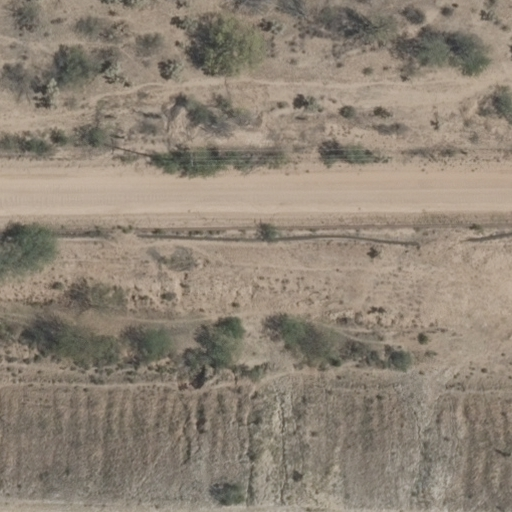DT: (149, 145, 198, 167)
